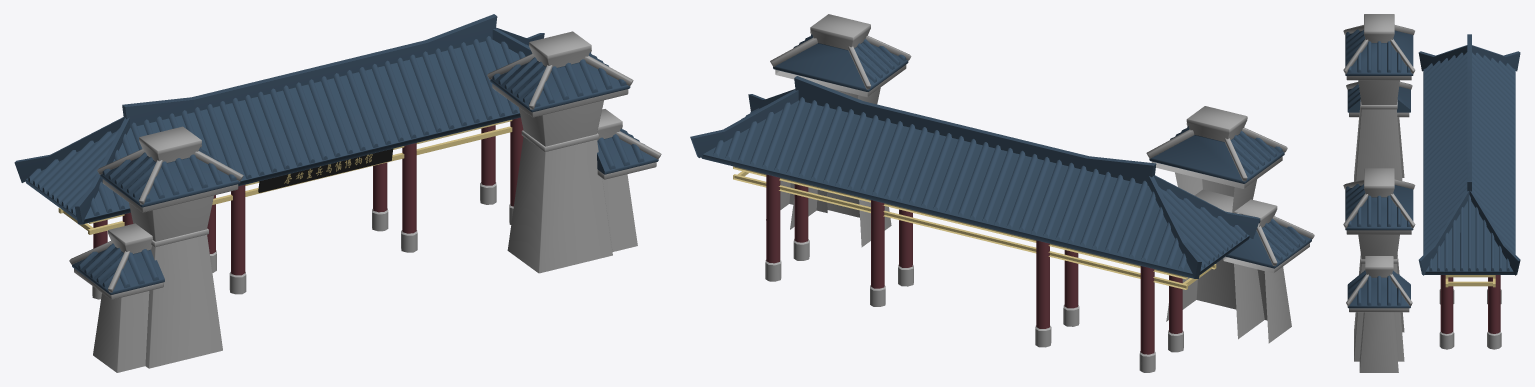
File: QingShiHuang.fbx
3 views of the same model, side by side, from view 1: azimuth 30°, elevation 25°; view 2: azimuth 150°, elevation 25°; view 3: azimuth 270°, elevation 25° (orthographic). The views are drawn at different scales.
Parts seen in each view (by area): view 1: QingShiHuang; view 2: QingShiHuang; view 3: QingShiHuang.
Boxes of the visible parts, x1=… form: QingShiHuang: x1=14, y1=14, x2=661, y2=372; QingShiHuang: x1=690, y1=14, x2=1314, y2=372; QingShiHuang: x1=1343, y1=14, x2=1520, y2=372.
Size of the model in its own units: 924 by 334 by 316.
